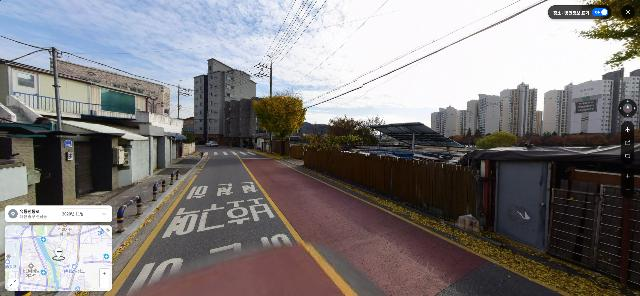ginkgo: (253, 96, 306, 155)
other: (326, 114, 377, 145), (365, 115, 389, 145), (476, 132, 518, 149)
